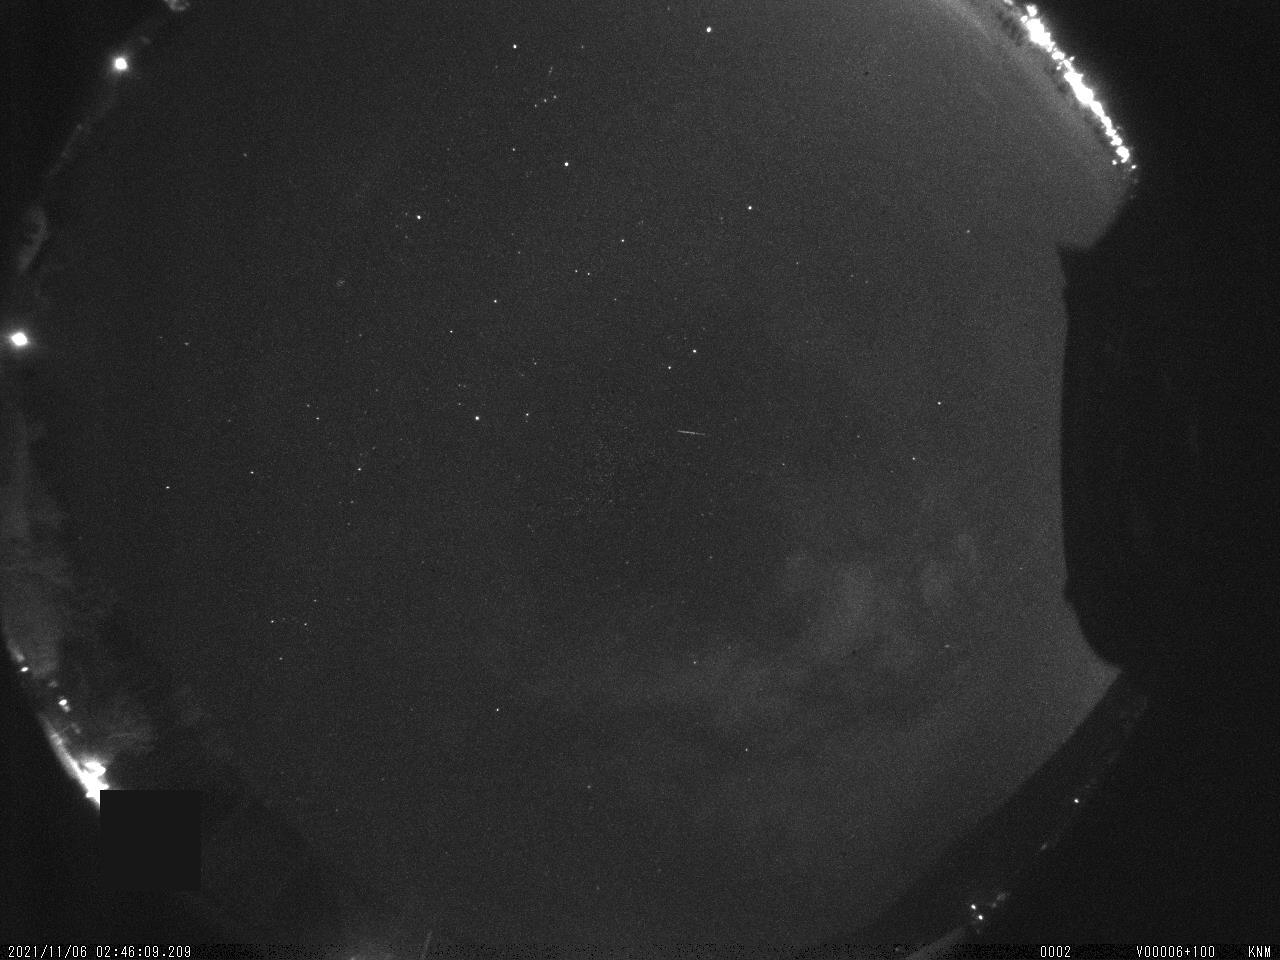meteor: (664, 421, 712, 447)
